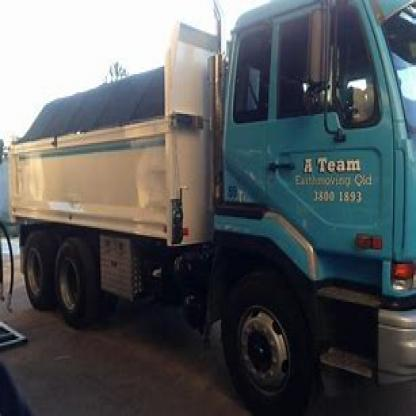dump_truck: (23, 2, 415, 403)
